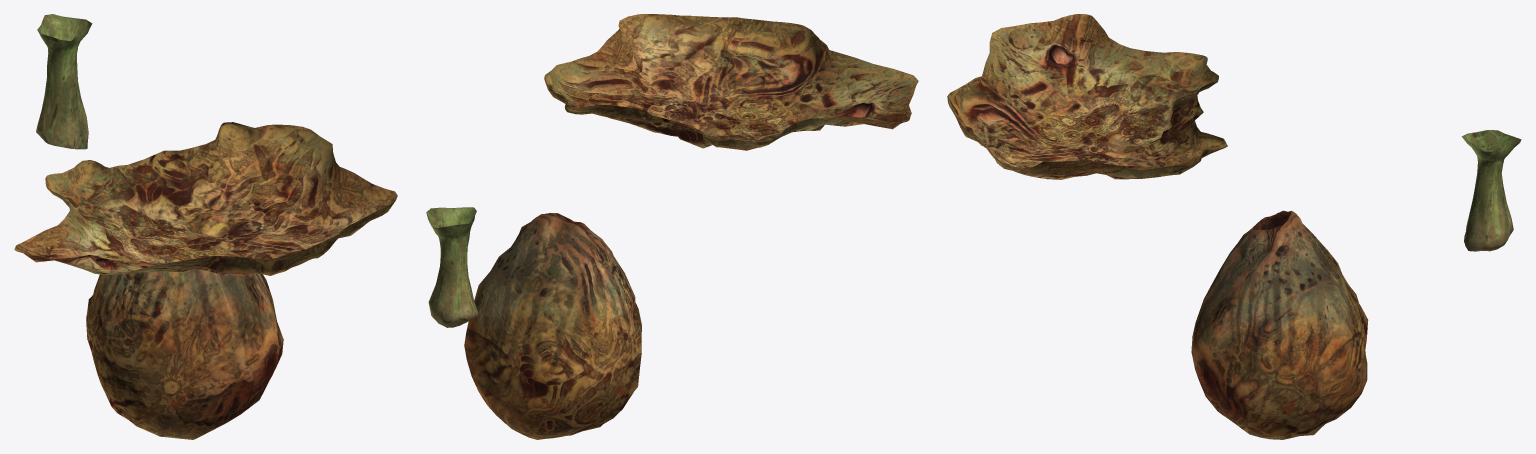
File: KDK_Map03_Corridor_Monstrosity_Egg_Slime.obj
3 views of the same model, side by side, from view 1: azimuth 30°, elevation 25°; view 2: azimuth 150°, elevation 25°; view 3: azimuth 270°, elevation 25° (orthographic). The views are drawn at different scales.
Parts seen in each view (by area): view 1: KDK_Map03_Monstrosity03_CeilingSlug_Low, KDK_Map03_Monstrosity03_Egg_Low; view 2: KDK_Map03_Monstrosity03_CeilingSlug_Low, KDK_Map03_Monstrosity03_Egg_Low; view 3: KDK_Map03_Monstrosity03_CeilingSlug_Low, KDK_Map03_Monstrosity03_Egg_Low.
Boxes of the visible parts, x1,y1,x2,y2 form: KDK_Map03_Monstrosity03_CeilingSlug_Low: (14, 14, 397, 275); KDK_Map03_Monstrosity03_Egg_Low: (86, 269, 283, 439); KDK_Map03_Monstrosity03_CeilingSlug_Low: (426, 14, 918, 327); KDK_Map03_Monstrosity03_Egg_Low: (464, 213, 641, 439); KDK_Map03_Monstrosity03_CeilingSlug_Low: (947, 14, 1521, 251); KDK_Map03_Monstrosity03_Egg_Low: (1191, 210, 1368, 439).
Bounding box in the file's own units: 476 × 413 × 725.
2 materials, 2 textured.
